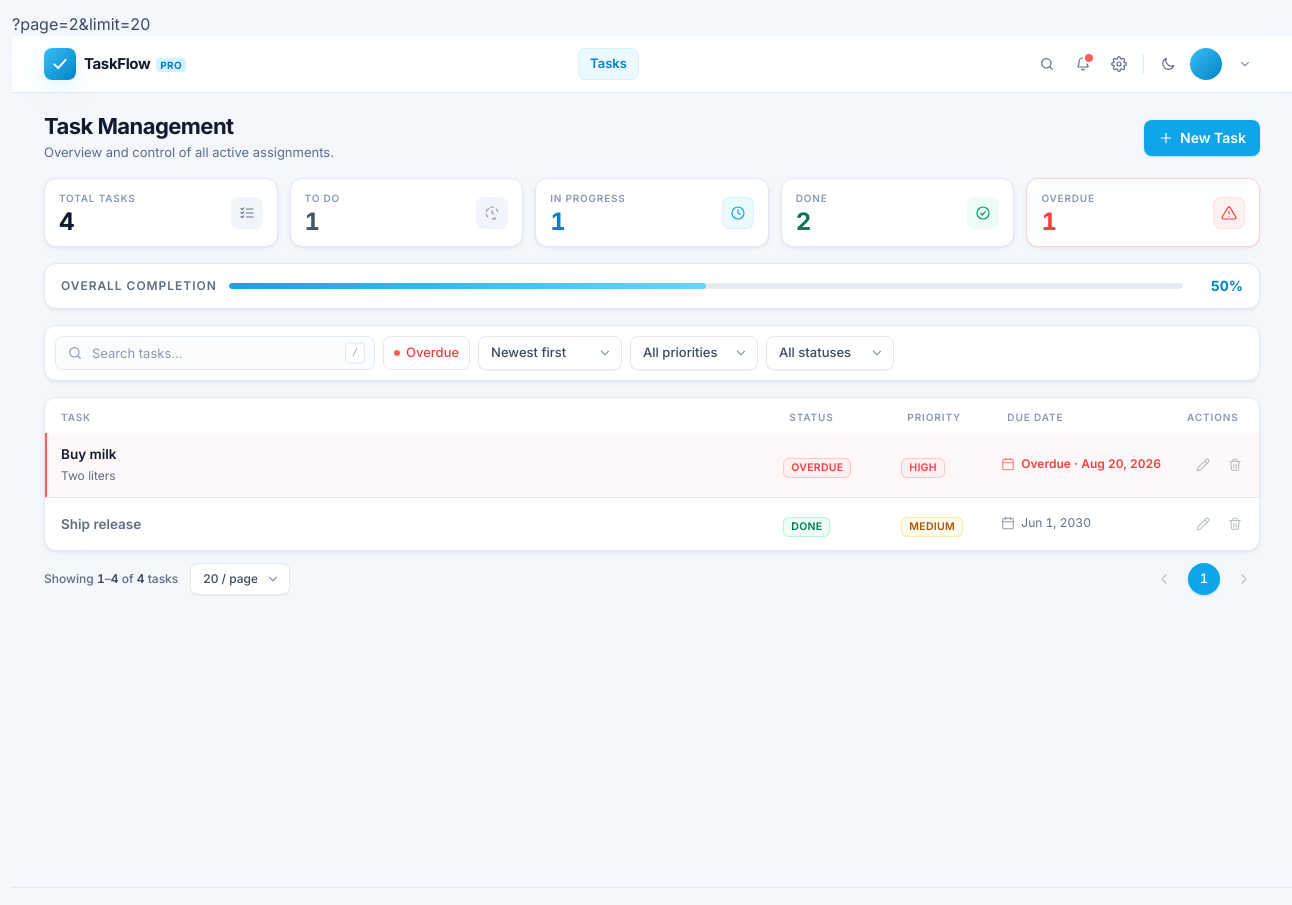
Scenario: DashboardPage - query interactions › changes the page size and resets to the first page
Expected: the heading "Buy milk" is shown, x1=61 y1=446 x2=116 y2=462
Select "5 / page" in the dropdown named "Tasks per page" at point(240, 579), box x1=190 y1=563 x2=290 y2=595
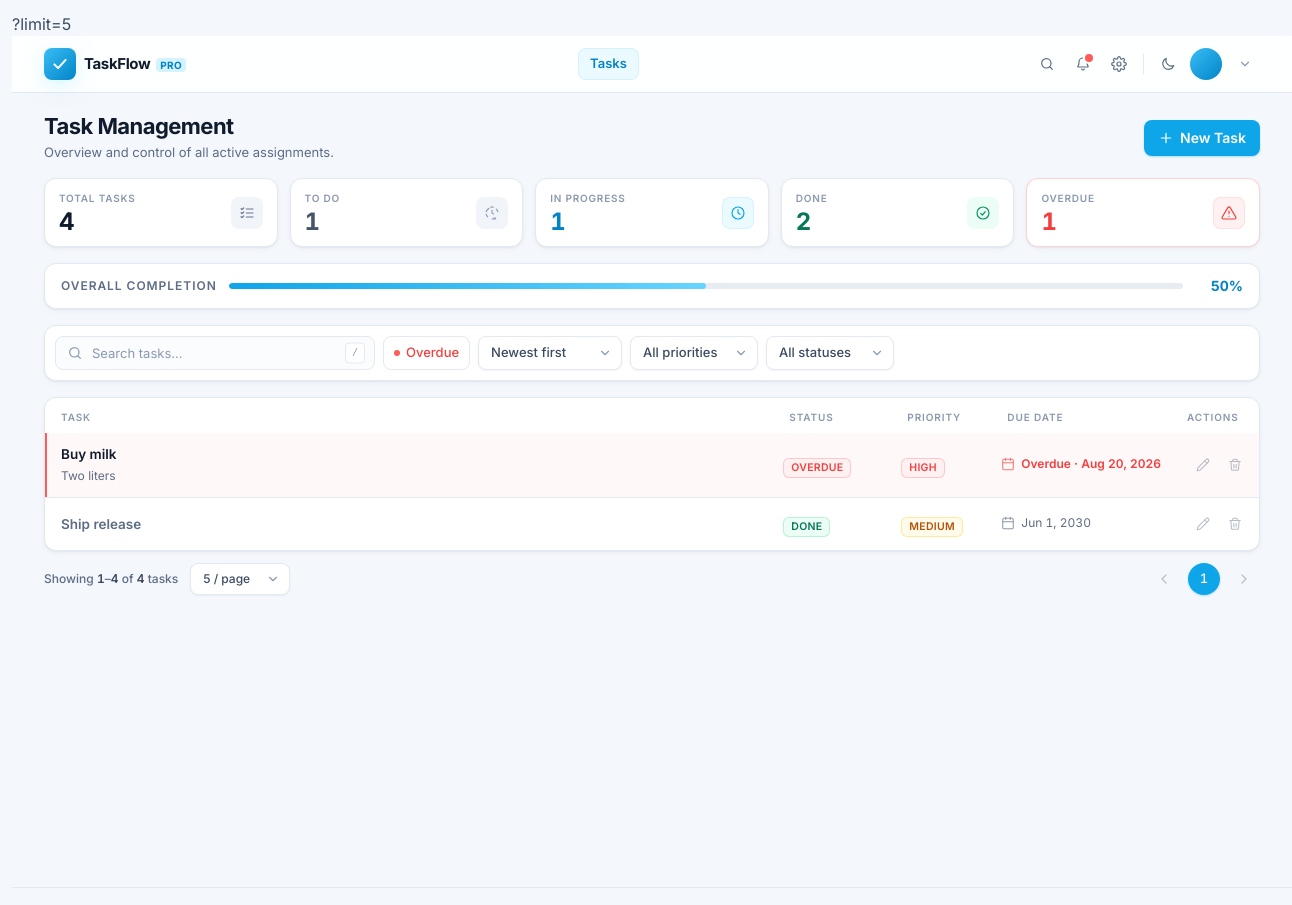
Now the text with test id "url-probe" shows "limit=5", box x1=12 y1=14 x2=71 y2=34
